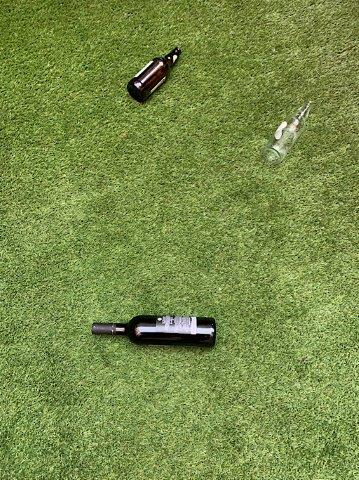botolkaca: (92, 316, 217, 346), (127, 48, 184, 102), (264, 100, 312, 158)
